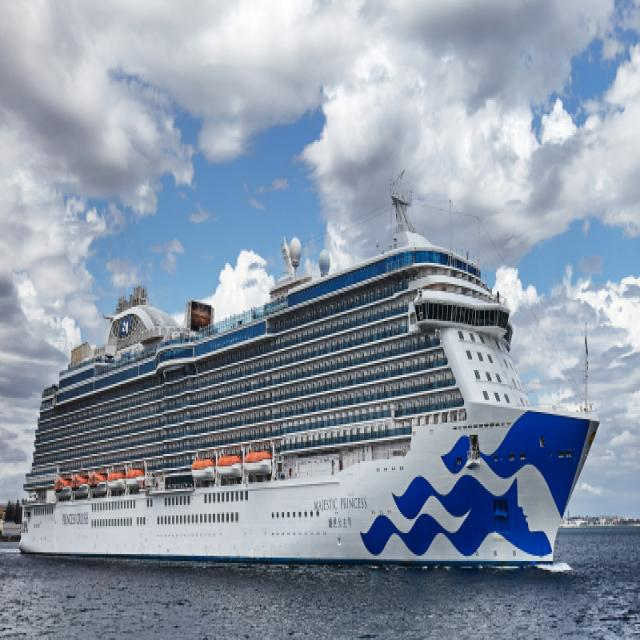cruises: (17, 213, 604, 578)
